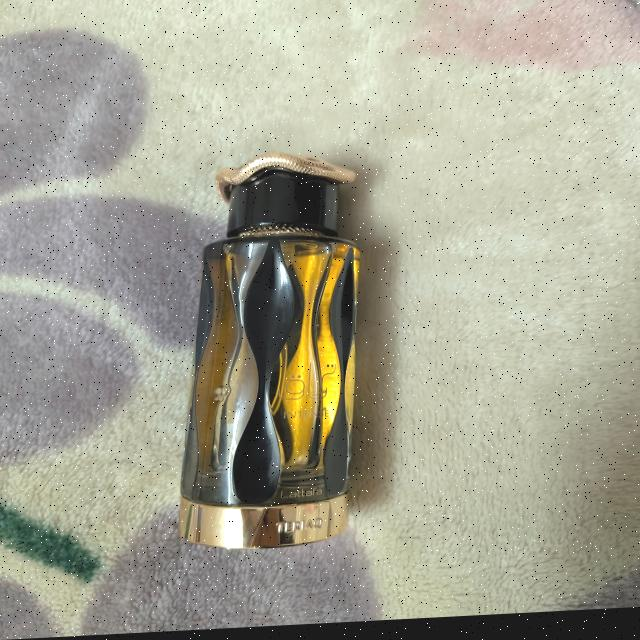Teriaq-Intense: (172, 128, 390, 581)
